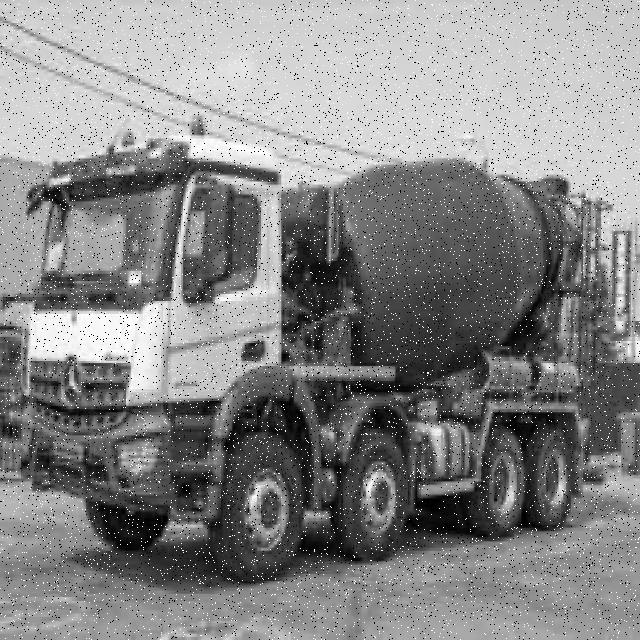Concrete Mixer: (19, 112, 616, 586)
